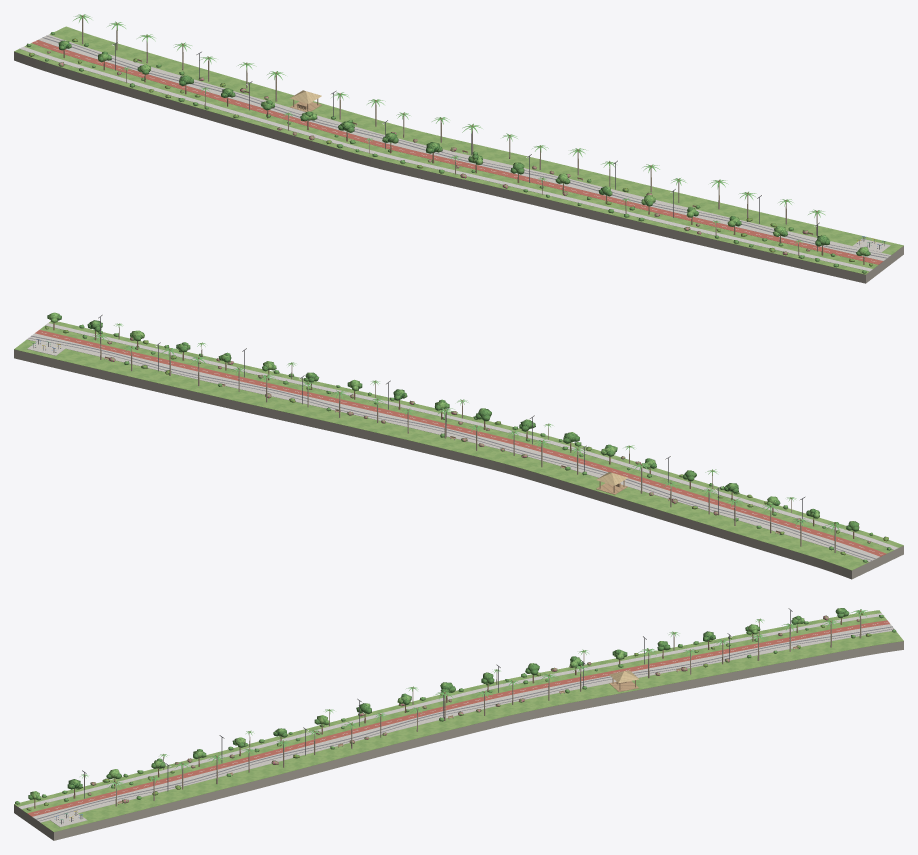
Rendered from parque_04.glb.
3 views of the same model, one above another, from view 1: azimuth 30°, elevation 25°; view 2: azimuth 210°, elevation 25°; view 3: azimuth 270°, elevation 25° (orthographic). The views are drawn at different scales.
Parts seen in each view (by area): view 1: parque_04; view 2: parque_04; view 3: parque_04.
Part boxes in pixels (x1,y1,x2,y2): parque_04: (14,26,903,283); parque_04: (14,314,903,579); parque_04: (14,608,903,840).
Size of the model in its own units: 164 by 13.46 by 277.
25 materials, 14 textured.
